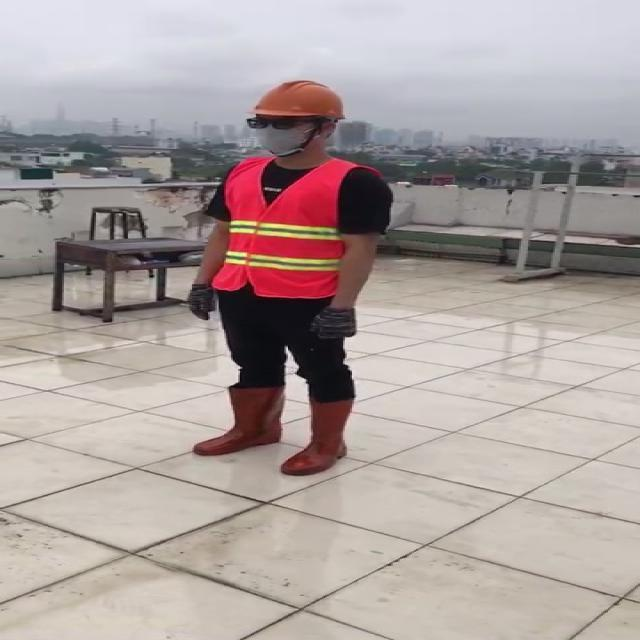gloves: (306, 304, 359, 342), (184, 283, 215, 323)
goggles: (246, 116, 298, 130)
helmet: (251, 78, 351, 121)
safety_vest: (211, 156, 375, 299)
